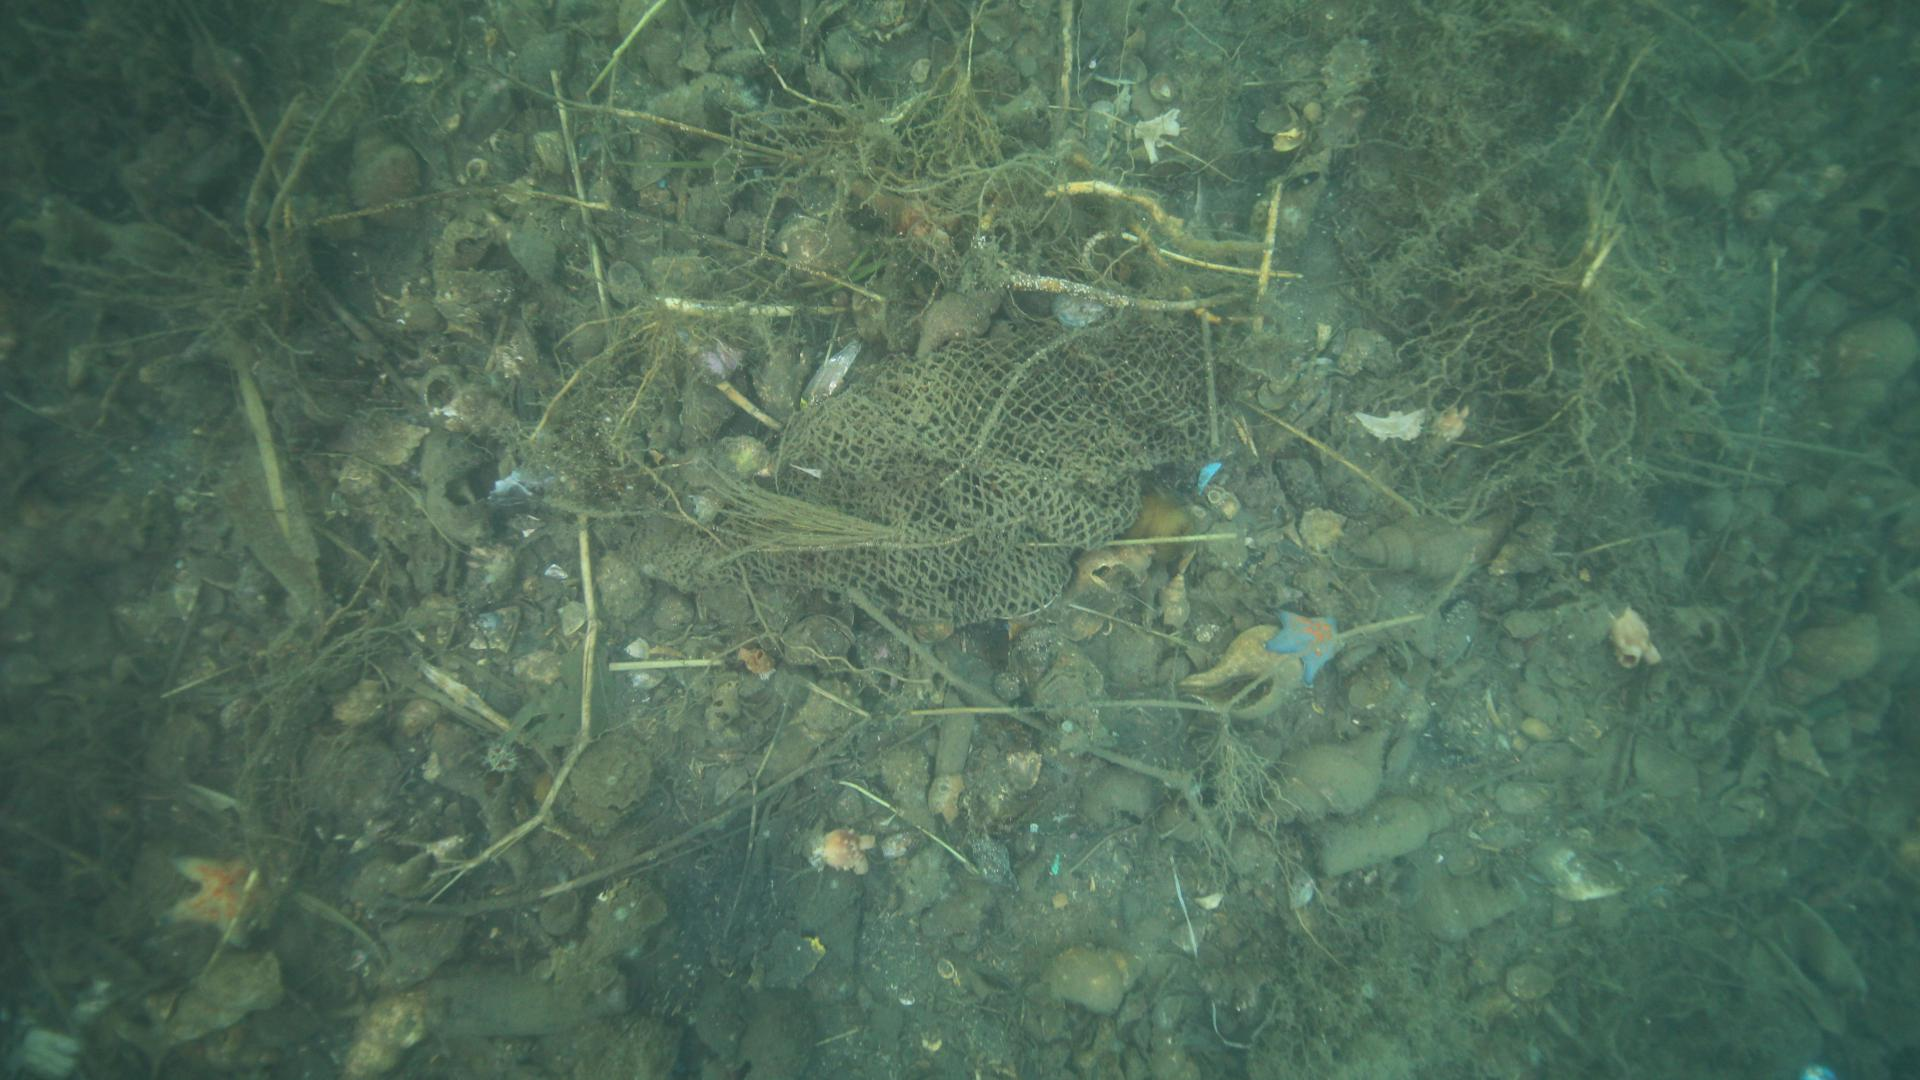fish net: (650, 322, 1216, 622)
